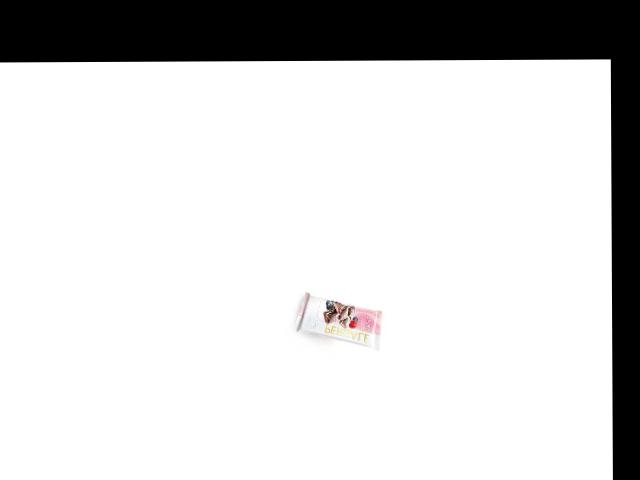chocolate: (298, 289, 381, 350)
